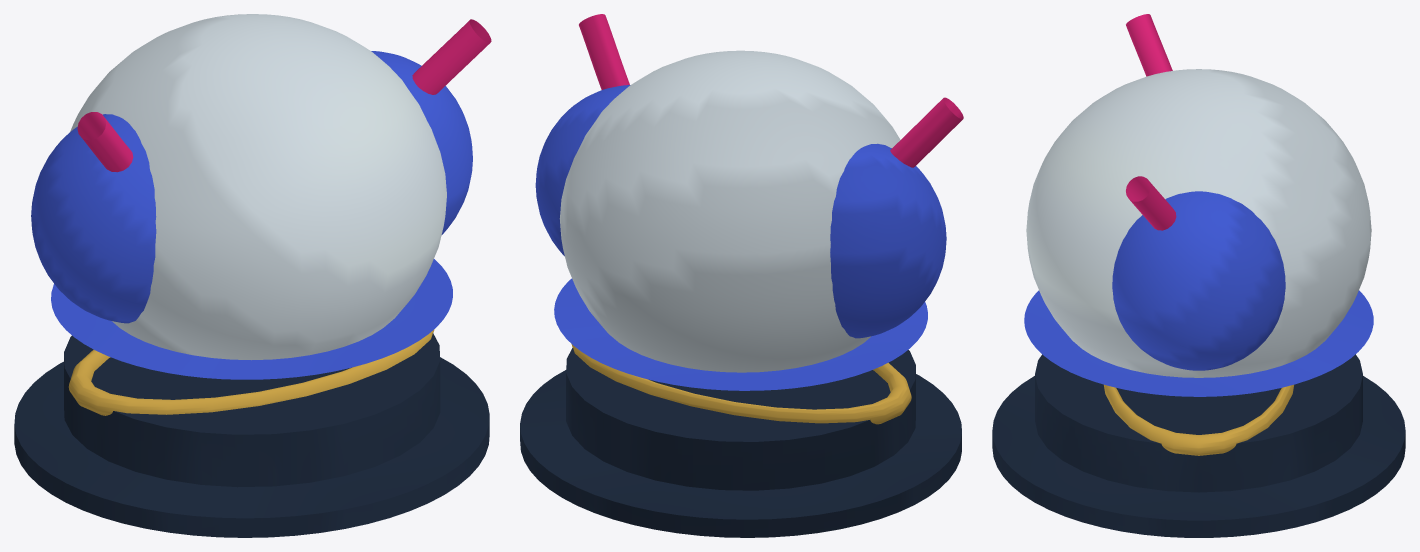
The model's file is 0188_人体图鉴_肾单位.glb.
3 views of the same model, side by side, from view 1: azimuth 30°, elevation 25°; view 2: azimuth 150°, elevation 25°; view 3: azimuth 270°, elevation 25° (orthographic). The views are drawn at different scales.
Visible parts, largest first — view 1: card_0188; view 2: card_0188; view 3: card_0188.
Boxes of the visible parts, bbox=[...] form: card_0188: bbox=[14, 14, 491, 537]; card_0188: bbox=[520, 14, 963, 537]; card_0188: bbox=[992, 14, 1405, 537].
Size of the model in its own units: 1.07 by 1 by 1.04.
